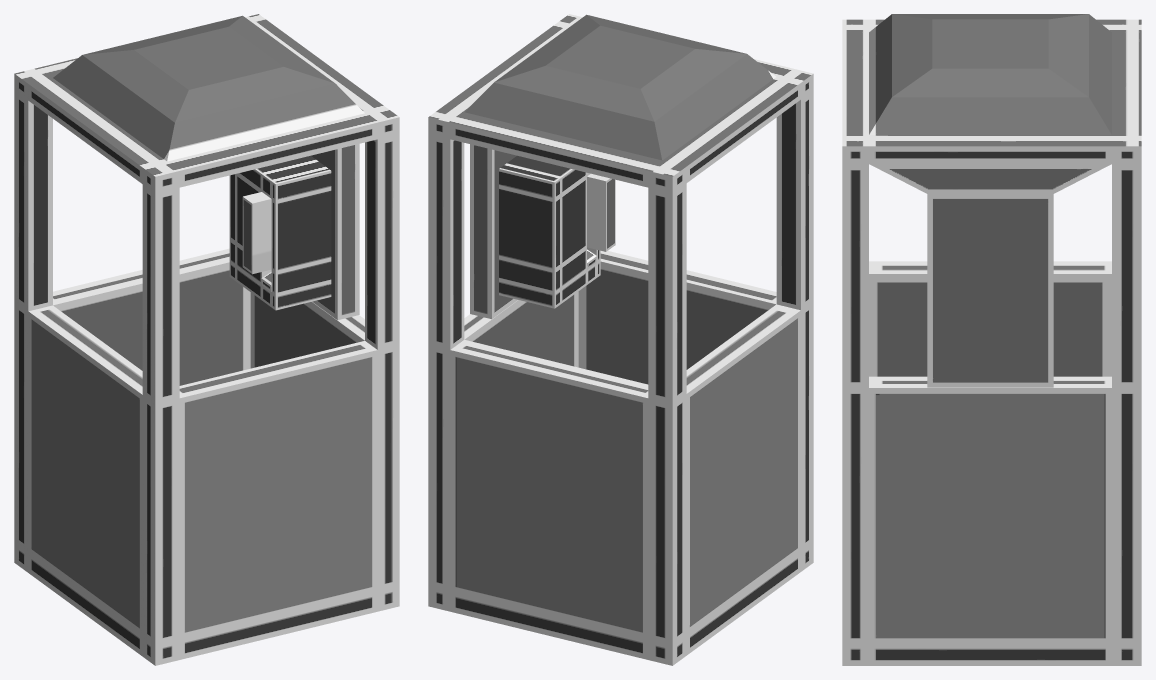
File: PhoneBoxGGJ (1).fbx
3 renders of one model, left to right at view 1: azimuth 30°, elevation 25°; view 2: azimuth 150°, elevation 25°; view 3: azimuth 270°, elevation 25°, orthographic. The views are drawn at different scales.
Parts seen in each view (by area): view 1: pCube29; view 2: pCube29; view 3: pCube29.
Part boxes in pixels (left/top/right/bottom): pCube29: left=14, top=14, right=399, bottom=665; pCube29: left=428, top=14, right=813, bottom=665; pCube29: left=842, top=14, right=1141, bottom=665.
Size of the model in its own units: 3.8 by 7.83 by 3.8.
